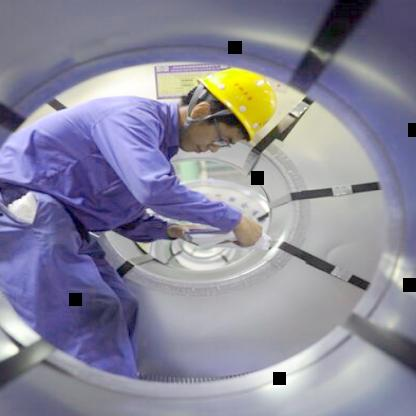helmet: (172, 57, 298, 156)
